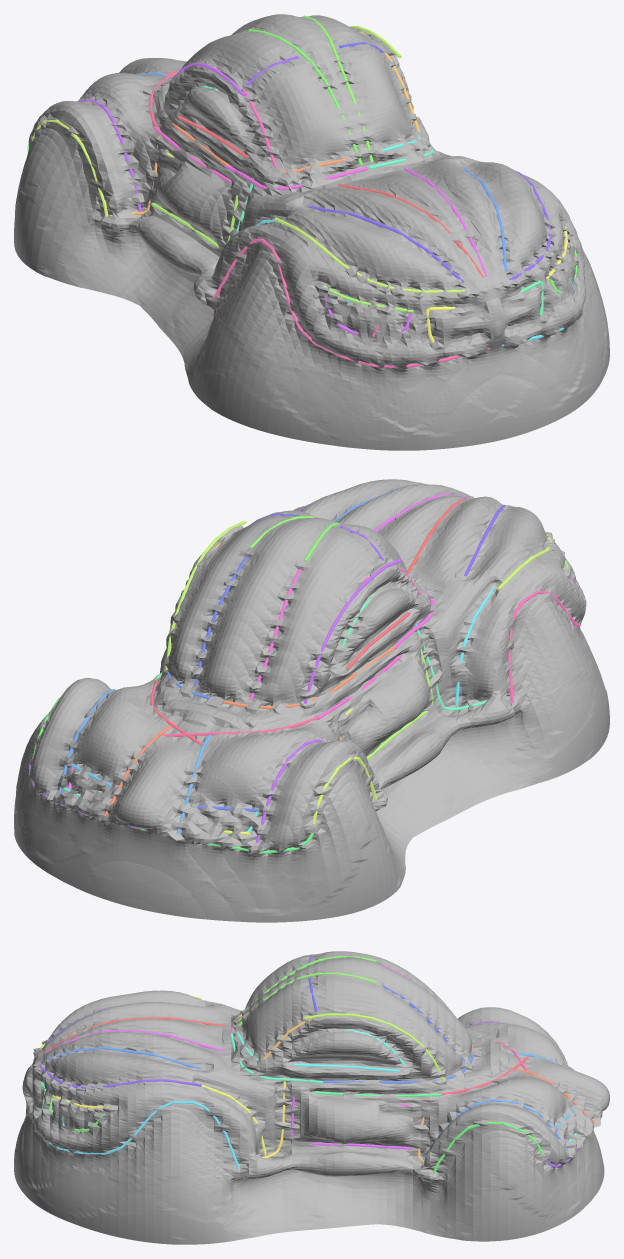
Rendered from author1_car.gltf.
3 renders of one model, top to bottom at view 1: azimuth 30°, elevation 25°; view 2: azimuth 150°, elevation 25°; view 3: azimuth 270°, elevation 25°, orthographic. The views are drawn at different scales.
Bounding box in the file's own units: 0.5294 × 0.3515 × 0.9042.
